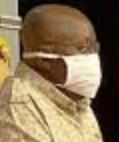with_facemask: (58, 52, 113, 101)
